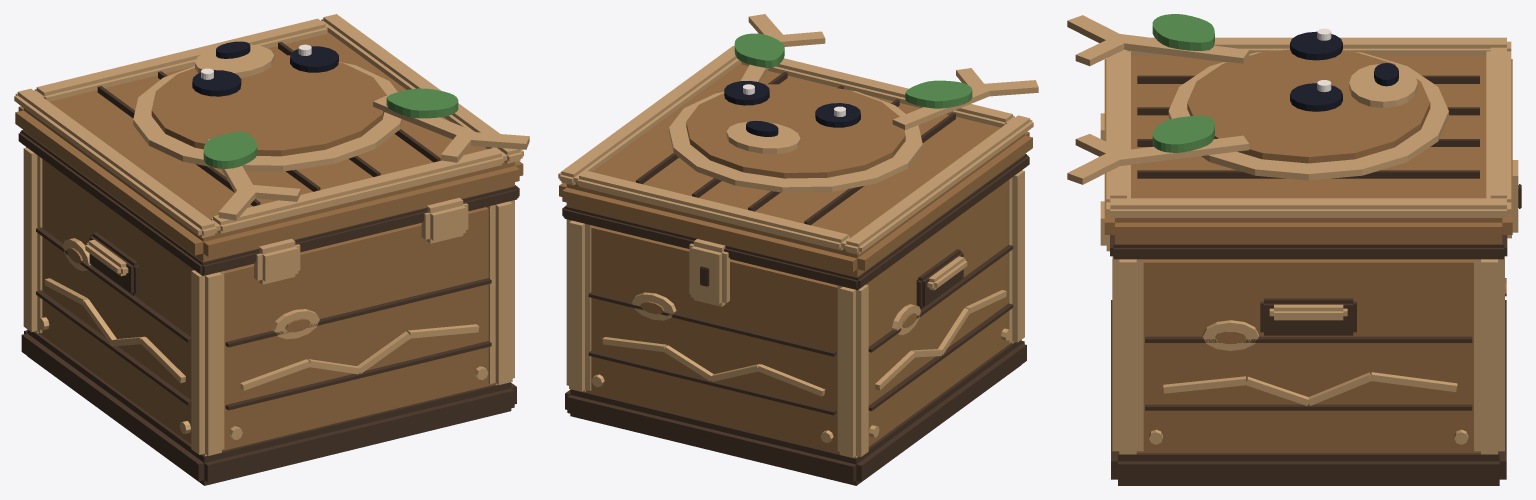
The model's file is crate_cervo_madeira.fbx.
3 renders of one model, left to right at view 1: azimuth 30°, elevation 25°; view 2: azimuth 150°, elevation 25°; view 3: azimuth 270°, elevation 25°, orthographic. The views are drawn at different scales.
Parts seen in each view (by area): view 1: crate_cervo_madeira_caixa; view 2: crate_cervo_madeira_caixa; view 3: crate_cervo_madeira_caixa.
Boxes of the visible parts, x1,y1,x2,y2 form: crate_cervo_madeira_caixa: (14, 14, 529, 485); crate_cervo_madeira_caixa: (558, 14, 1038, 485); crate_cervo_madeira_caixa: (1067, 14, 1521, 485).
Bounding box in the file's own units: 2.68 × 2.45 × 2.92.
1 material, 1 textured.
